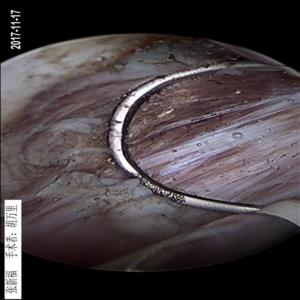film: (29, 44, 291, 257)
